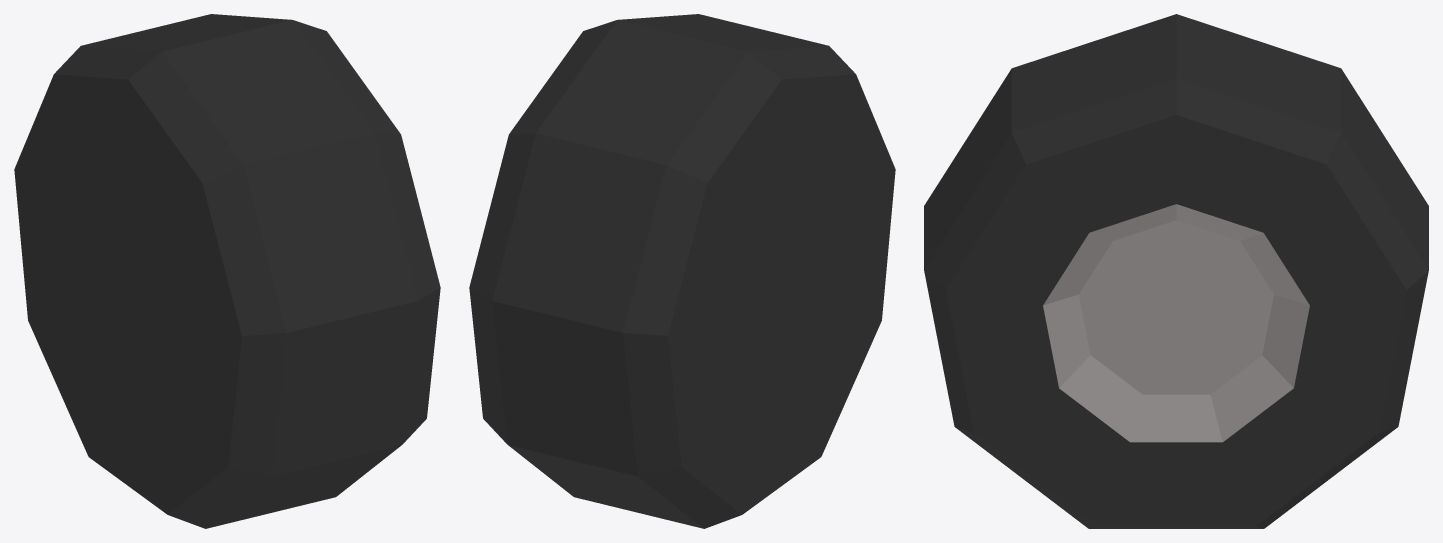
Rendered from car-formula-wheel_FL.glb.
3 views of the same model, side by side, from view 1: azimuth 30°, elevation 25°; view 2: azimuth 150°, elevation 25°; view 3: azimuth 270°, elevation 25° (orthographic).
Visible parts, largest first — view 1: car-formula-wheel_FL; view 2: car-formula-wheel_FL; view 3: car-formula-wheel_FL.
Boxes of the visible parts, x1,y1,x2,y2 form: car-formula-wheel_FL: [14, 14, 440, 528]; car-formula-wheel_FL: [469, 14, 895, 528]; car-formula-wheel_FL: [924, 14, 1428, 528].
Bounding box in the file's own units: 0.2871 × 0.6152 × 0.6247.
Materials: 1 (1 with a texture image).
